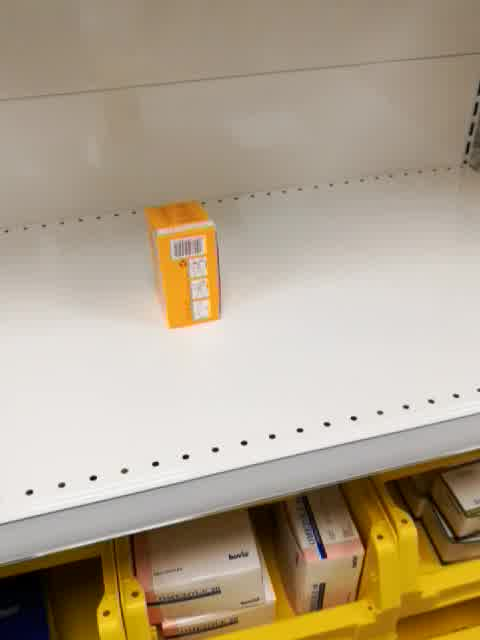jasminetea: (144, 202, 222, 329)
